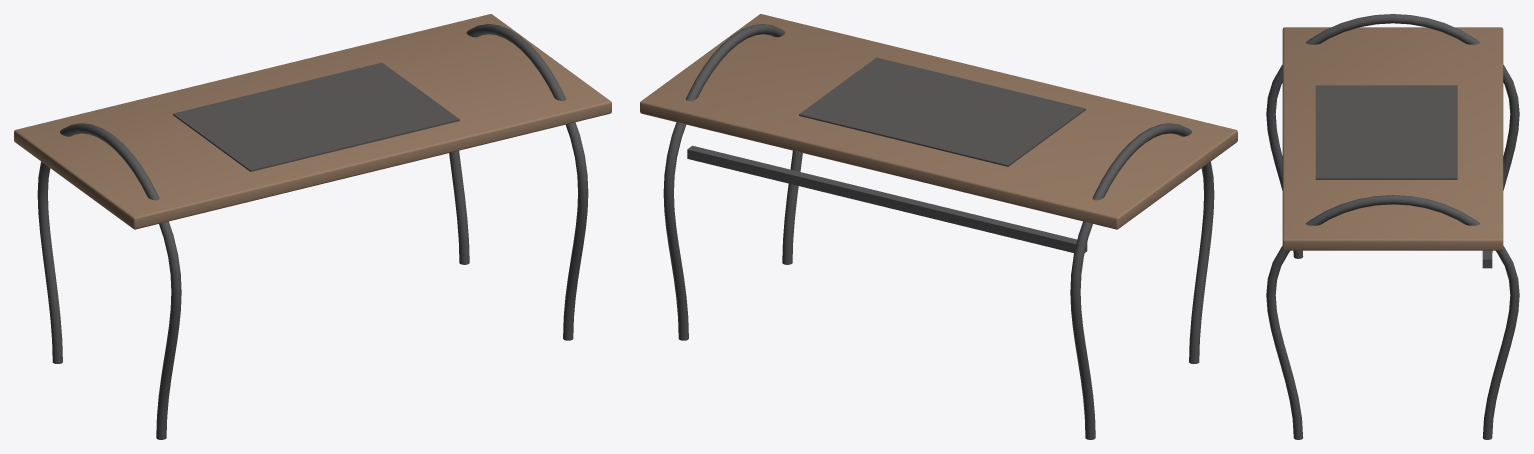
The model's file is it_desk.glb.
3 views of the same model, side by side, from view 1: azimuth 30°, elevation 25°; view 2: azimuth 150°, elevation 25°; view 3: azimuth 270°, elevation 25° (orthographic). The views are drawn at different scales.
Parts seen in each view (by area): view 1: top, pad, sled-1, sled1; view 2: top, pad, sled-1, stretcher, sled1; view 3: top, pad, sled1, sled-1.
Boxes of the visible parts, left/top/right/bottom form: top: left=14, top=14, right=611, bottom=229; pad: left=173, top=62, right=459, bottom=171; sled-1: left=37, top=123, right=181, bottom=439; sled1: left=449, top=24, right=588, bottom=340; top: left=640, top=14, right=1237, bottom=229; pad: left=799, top=57, right=1085, bottom=166; sled-1: left=1070, top=123, right=1214, bottom=439; stretcher: left=687, top=145, right=1087, bottom=252; sled1: left=663, top=24, right=802, bottom=340; top: left=1282, top=27, right=1503, bottom=250; pad: left=1315, top=85, right=1457, bottom=179; sled1: left=1266, top=195, right=1519, bottom=439; sled-1: left=1266, top=14, right=1519, bottom=258.
Bounding box in the file's own units: 1.6 × 0.8492 × 0.8042.
